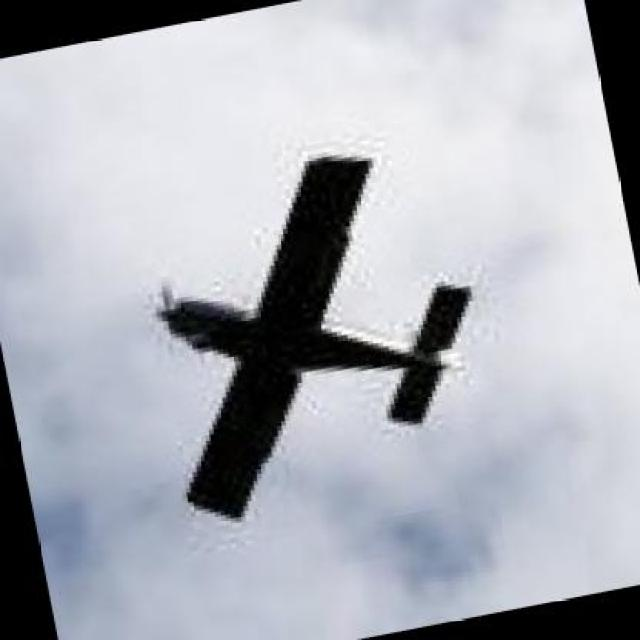iha: (162, 152, 476, 520)
